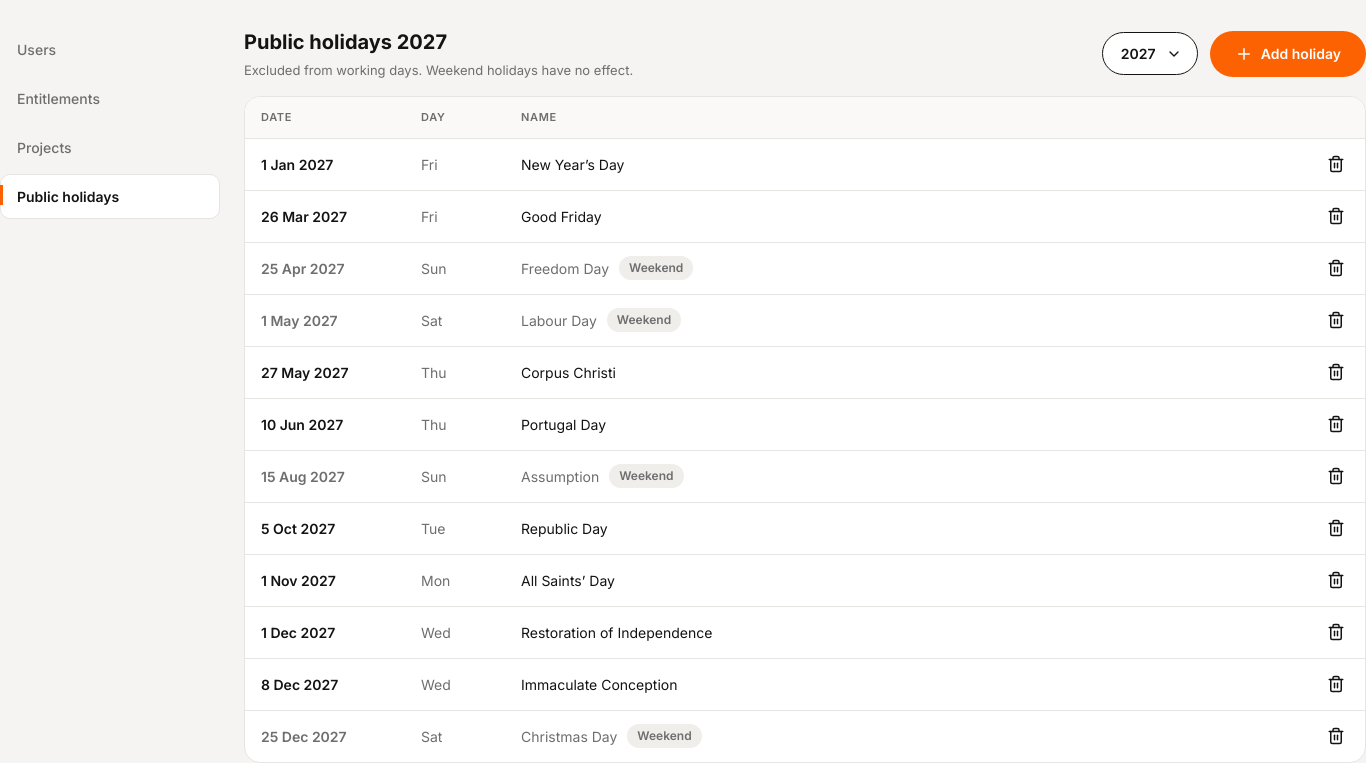
it: Admin – Public holidays › keeps the confirmation open with the error when the delete fails
(page scrolled)
Expected: the heading "Public holidays 2027" is shown, [244,30,447,54]
Step 1. Click the button named "Delete Christmas Day" → (1336,736), box [1323,723,1349,749]
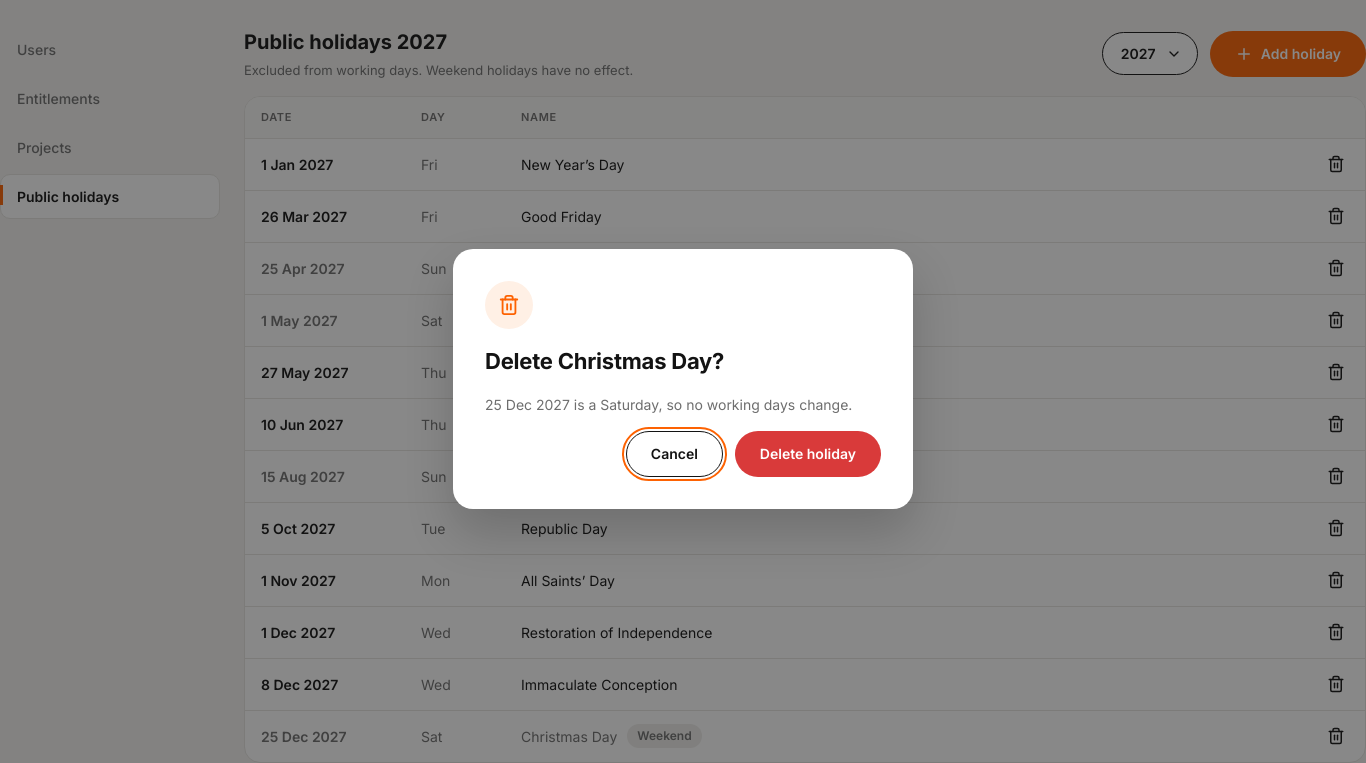
Expected: the dialog shows "25 Dec 2027 is a Saturday, so no working days change.", [485,396,852,413]
Step 2. Click the button "Delete holiday" → (808,454), box [735,431,881,477]
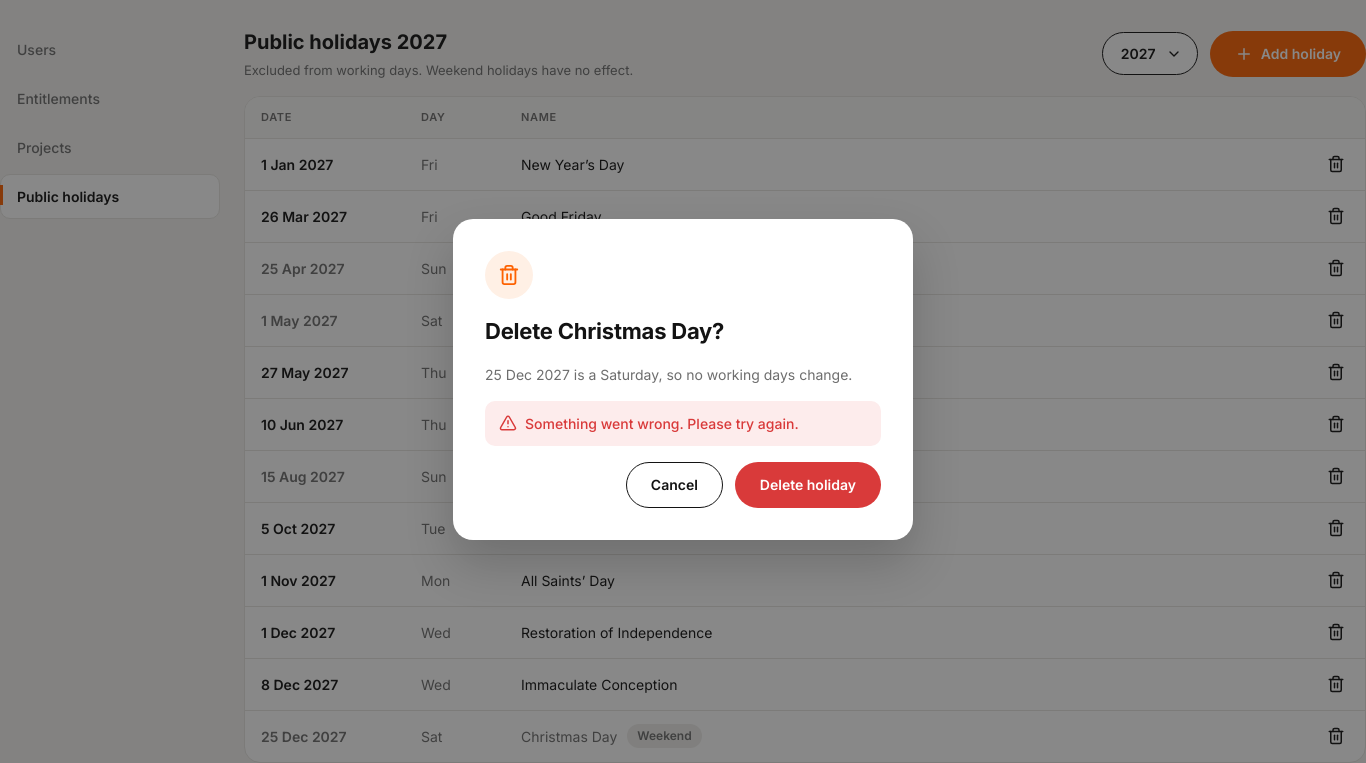
Expected: the message "Something went wrong. Please try again." is shown, [485,400,881,446]
